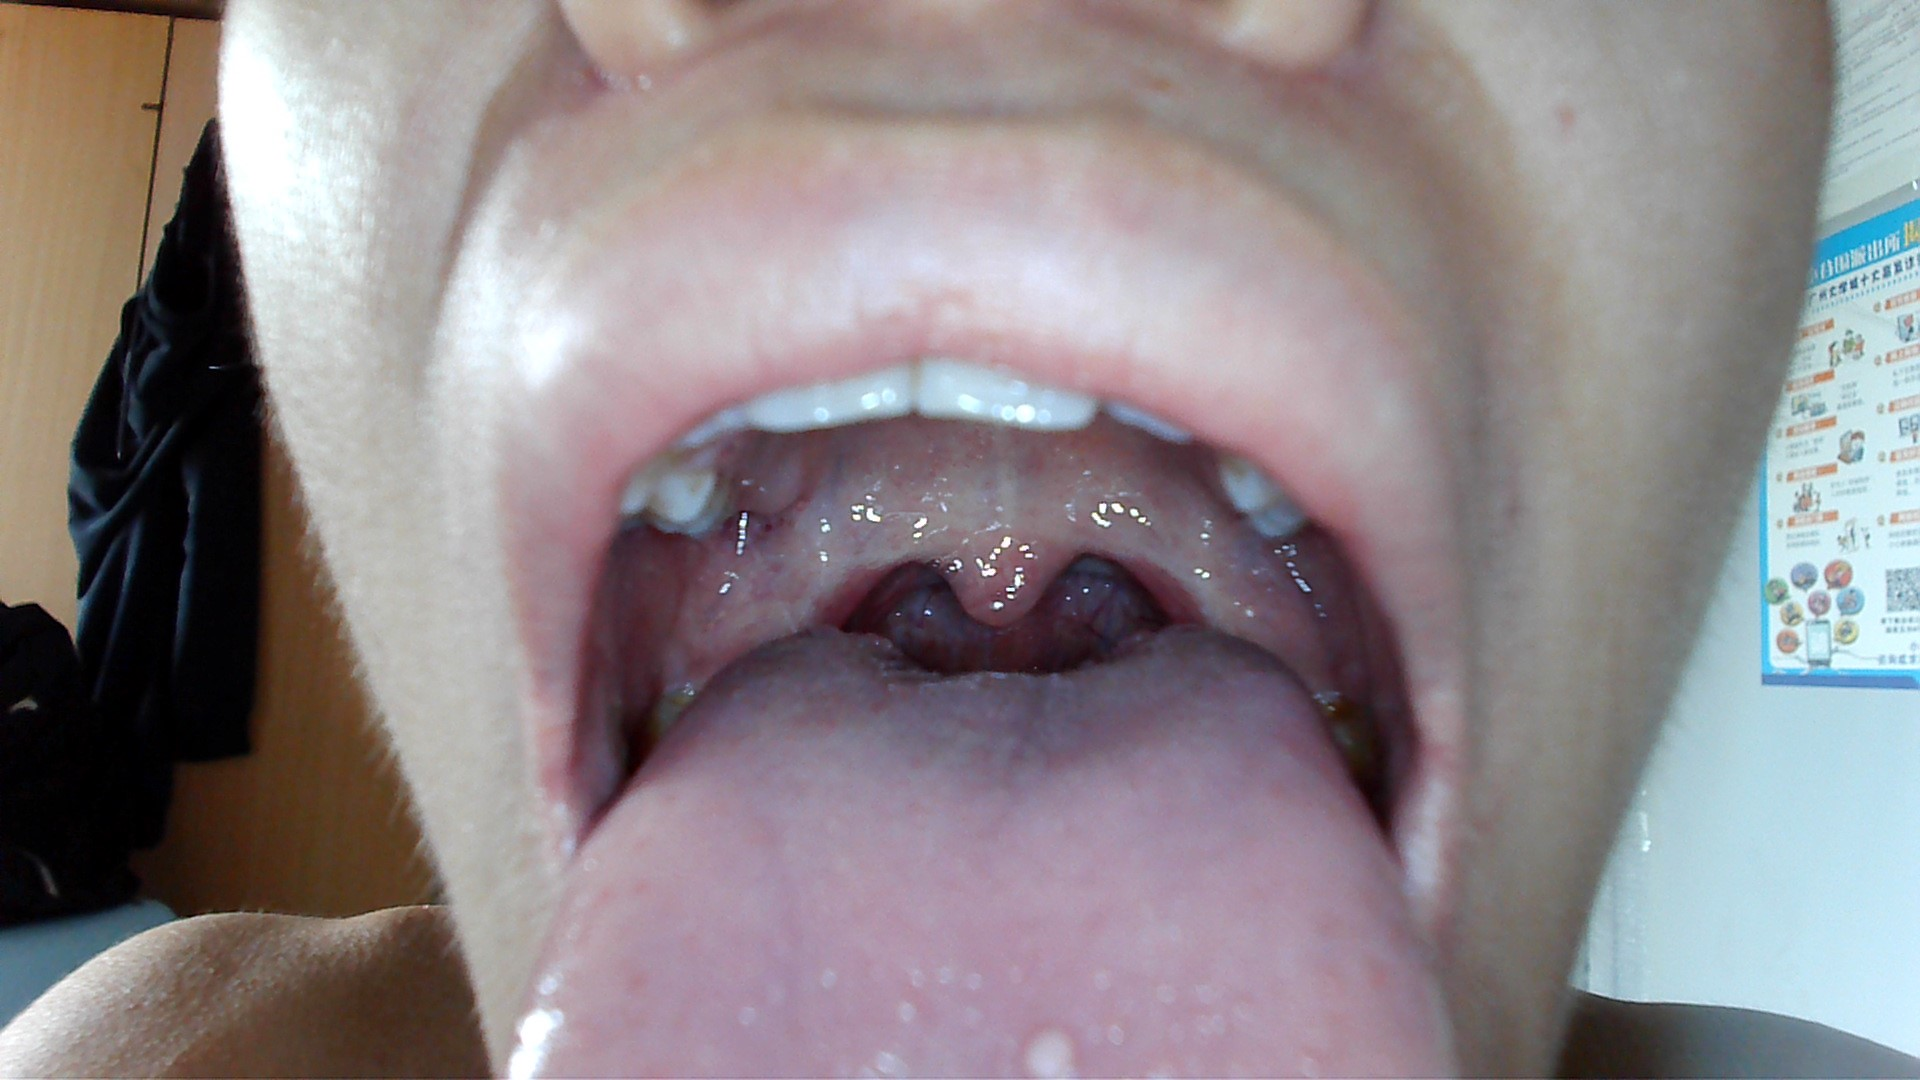throat: (754, 535, 874, 636), (1134, 512, 1238, 620)
